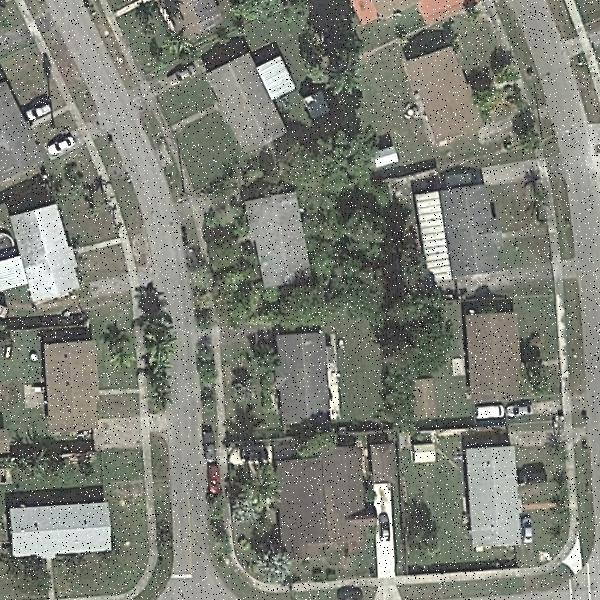Buildings: (282, 454, 372, 553), (1, 202, 70, 312), (209, 56, 290, 142), (406, 46, 472, 148), (426, 184, 503, 271), (462, 449, 524, 543), (466, 310, 528, 400), (242, 200, 309, 280), (274, 336, 329, 428), (350, 0, 472, 36), (11, 510, 110, 550), (49, 344, 93, 434)
